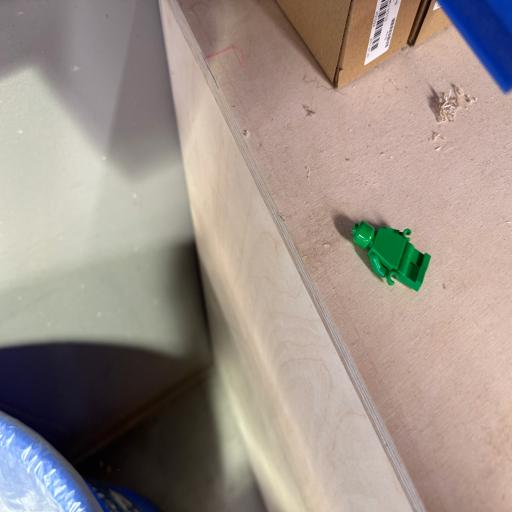Lego-Dude: (352, 221, 430, 291)
